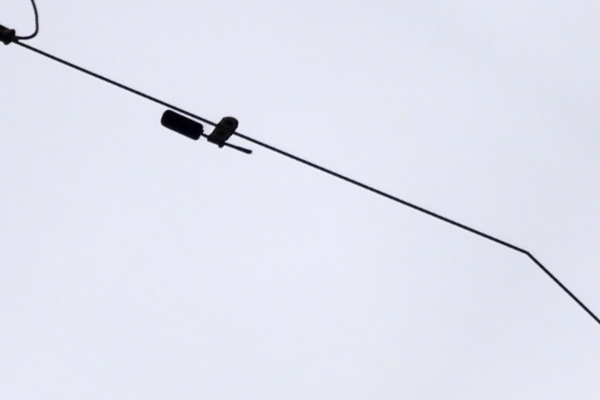damper_defect: (158, 107, 256, 158)
